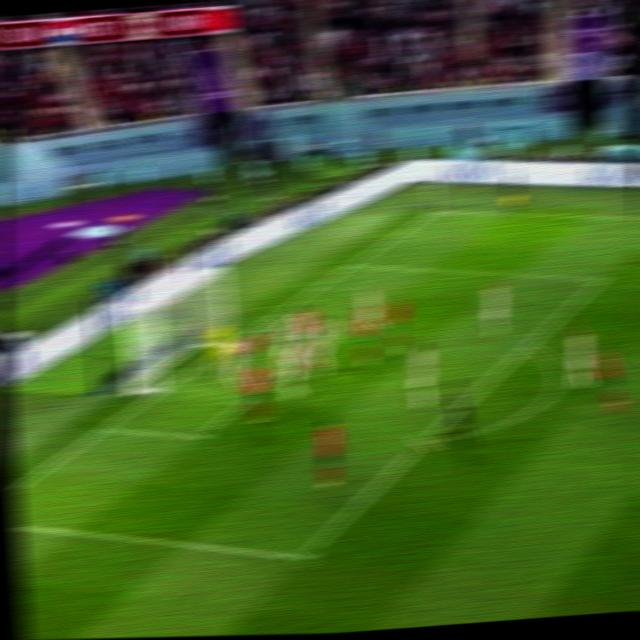bigarea_bottom_inner: (285, 539, 318, 574)
bigarea_top_inner: (588, 267, 615, 289)
bigarea_top_outter: (339, 253, 366, 273)
bottom_arc_area_intersection: (409, 428, 438, 453)
corner: (421, 203, 447, 220)
smallarea_bottom_inner: (182, 420, 214, 452)
smallarea_bottom_outter: (89, 415, 119, 443)
smallarea_top_inner: (343, 312, 366, 333)
smallarea_top_outter: (259, 304, 286, 325)
top_arc_area_intersection: (514, 332, 540, 357)
